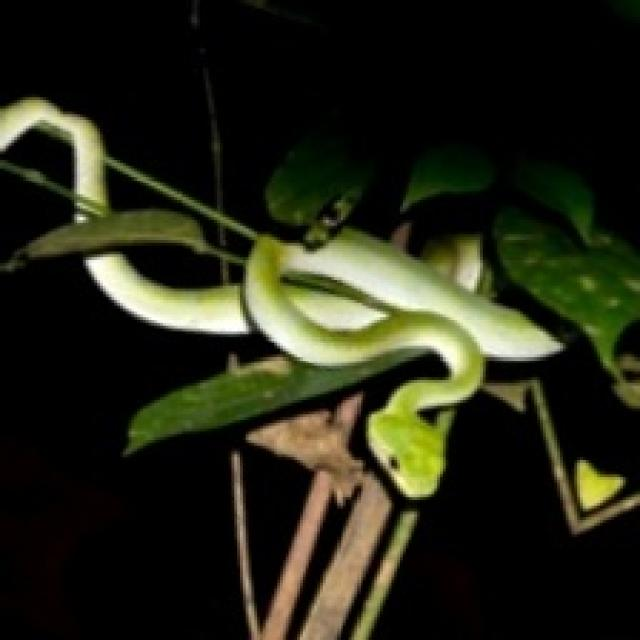north ph temple pitviper: (86, 229, 560, 494), (0, 97, 211, 257)
